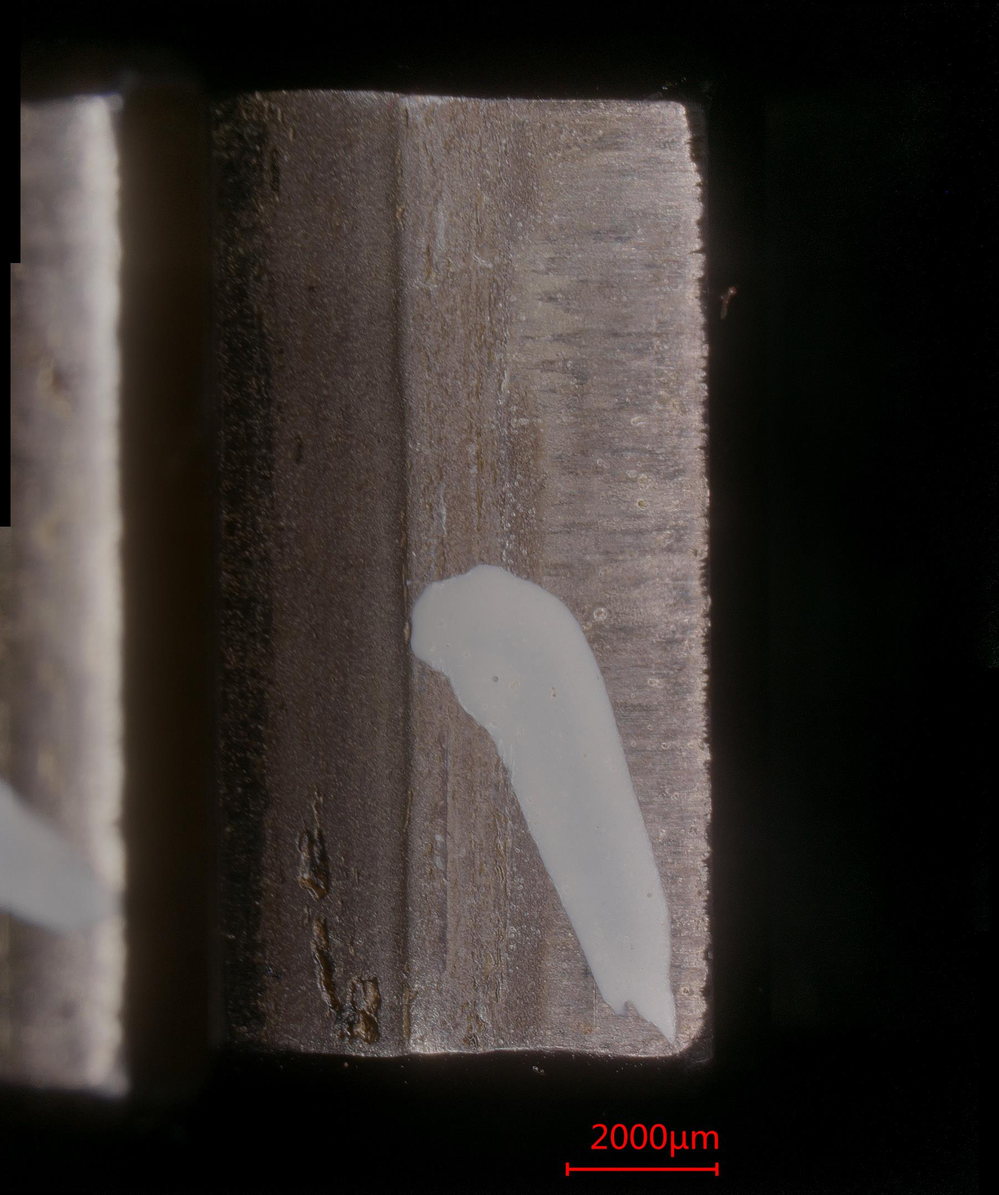Abrasion: (230, 97, 708, 1054)
